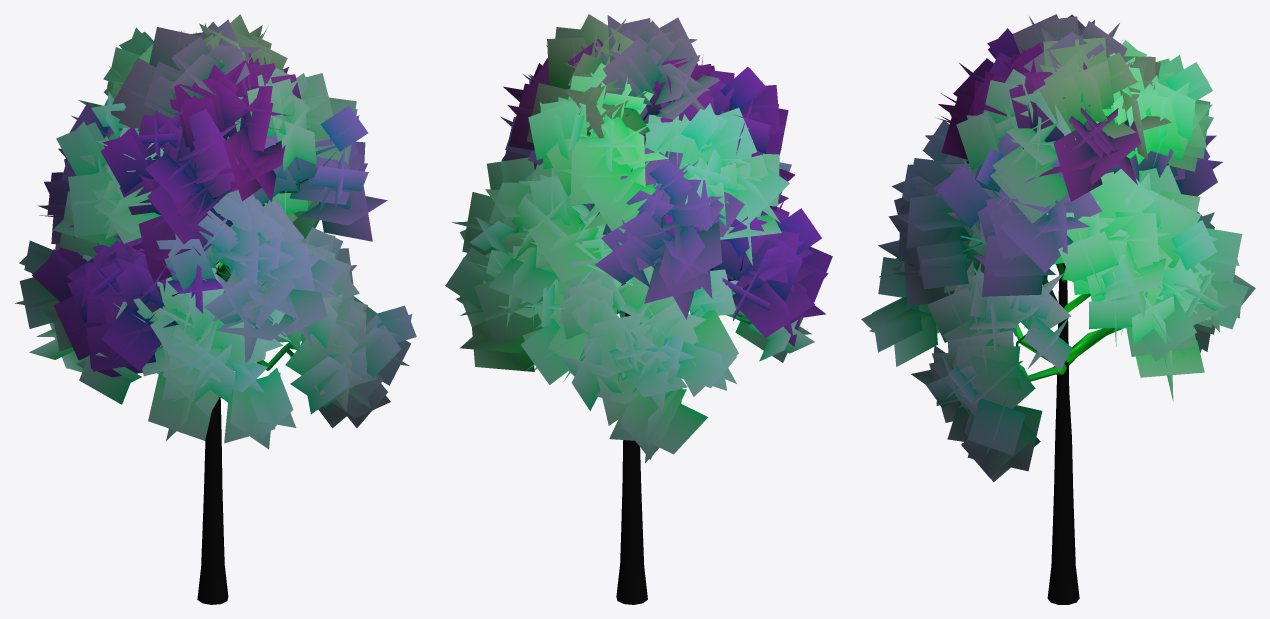
Rendered from foliage_tree_large_003.fbx.
The picture shows the model from 3 angles, left to right: view 1: azimuth 30°, elevation 25°; view 2: azimuth 150°, elevation 25°; view 3: azimuth 270°, elevation 25°; orthographic projection.
Parts seen in each view (by area): view 1: Tree_1, Tree_0; view 2: Tree_1, Tree_0; view 3: Tree_1, Tree_0.
Part boxes in pixels (x1,y1,x2,y2): Tree_1: (15,14,416,449); Tree_0: (92,133,337,604); Tree_1: (445,14,832,463); Tree_0: (492,80,751,604); Tree_1: (861,14,1255,481); Tree_0: (960,148,1123,604).
Bounding box in the file's own units: 644 × 1071 × 664.
